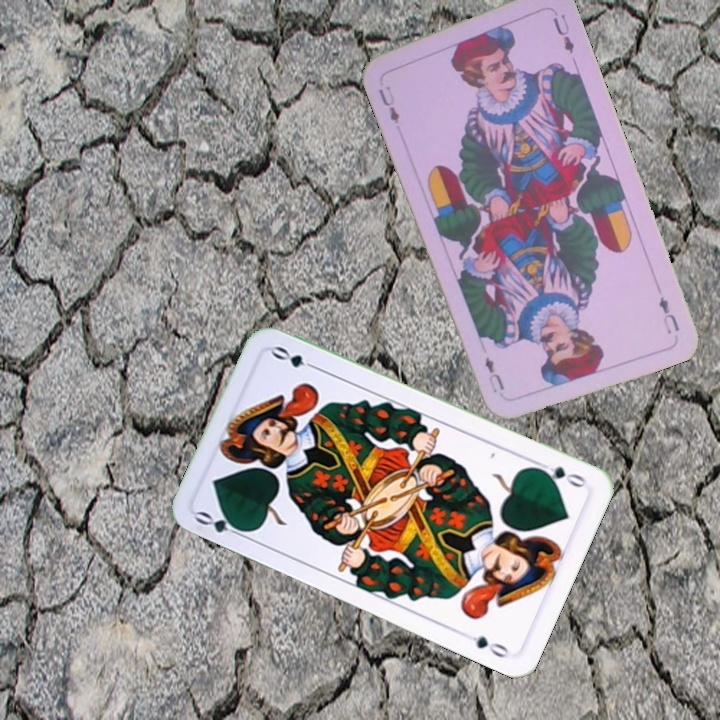EU: (654, 291, 683, 337), (374, 81, 402, 127)
GO: (191, 507, 251, 541), (531, 457, 589, 491)
